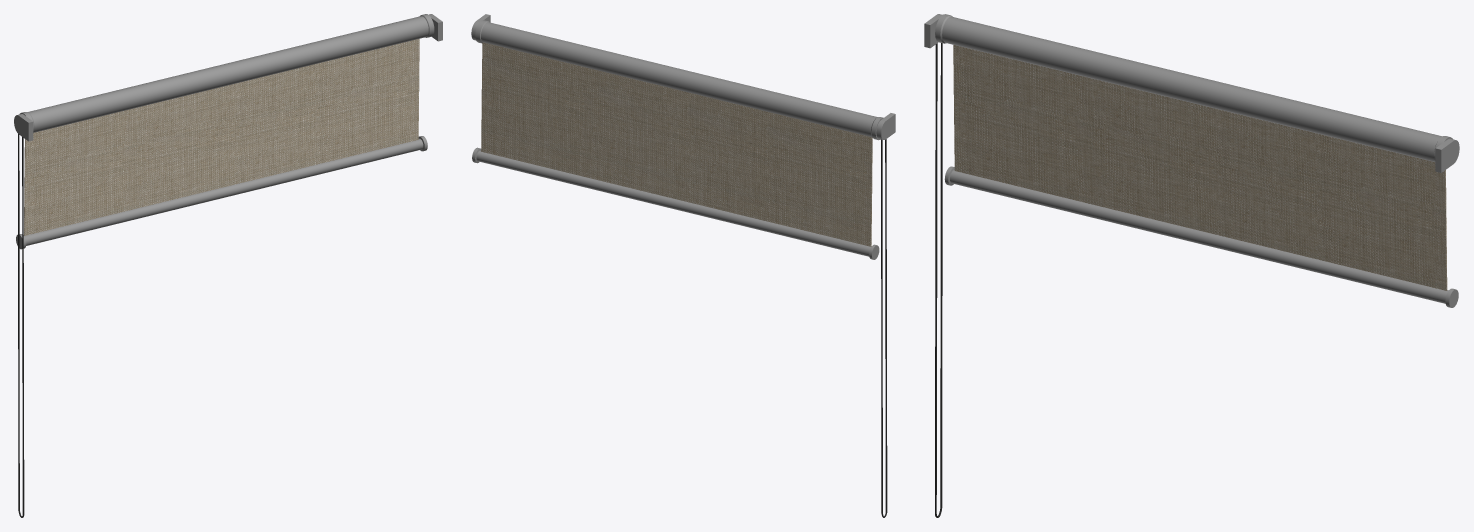
File: Curtain.FBX
The picture shows the model from 3 angles, left to right: view 1: azimuth 30°, elevation 25°; view 2: azimuth 150°, elevation 25°; view 3: azimuth 330°, elevation 25°; orthographic projection. The views are drawn at different scales.
Parts seen in each view (by area): view 1: curtain; view 2: curtain; view 3: curtain.
Boxes of the visible parts, x1=… form: curtain: x1=14, y1=14, x2=442, y2=517; curtain: x1=471, y1=14, x2=895, y2=517; curtain: x1=924, y1=14, x2=1459, y2=517.
Bounding box in the file's own units: 138 × 129 × 10.59.
2 materials, 1 textured.
